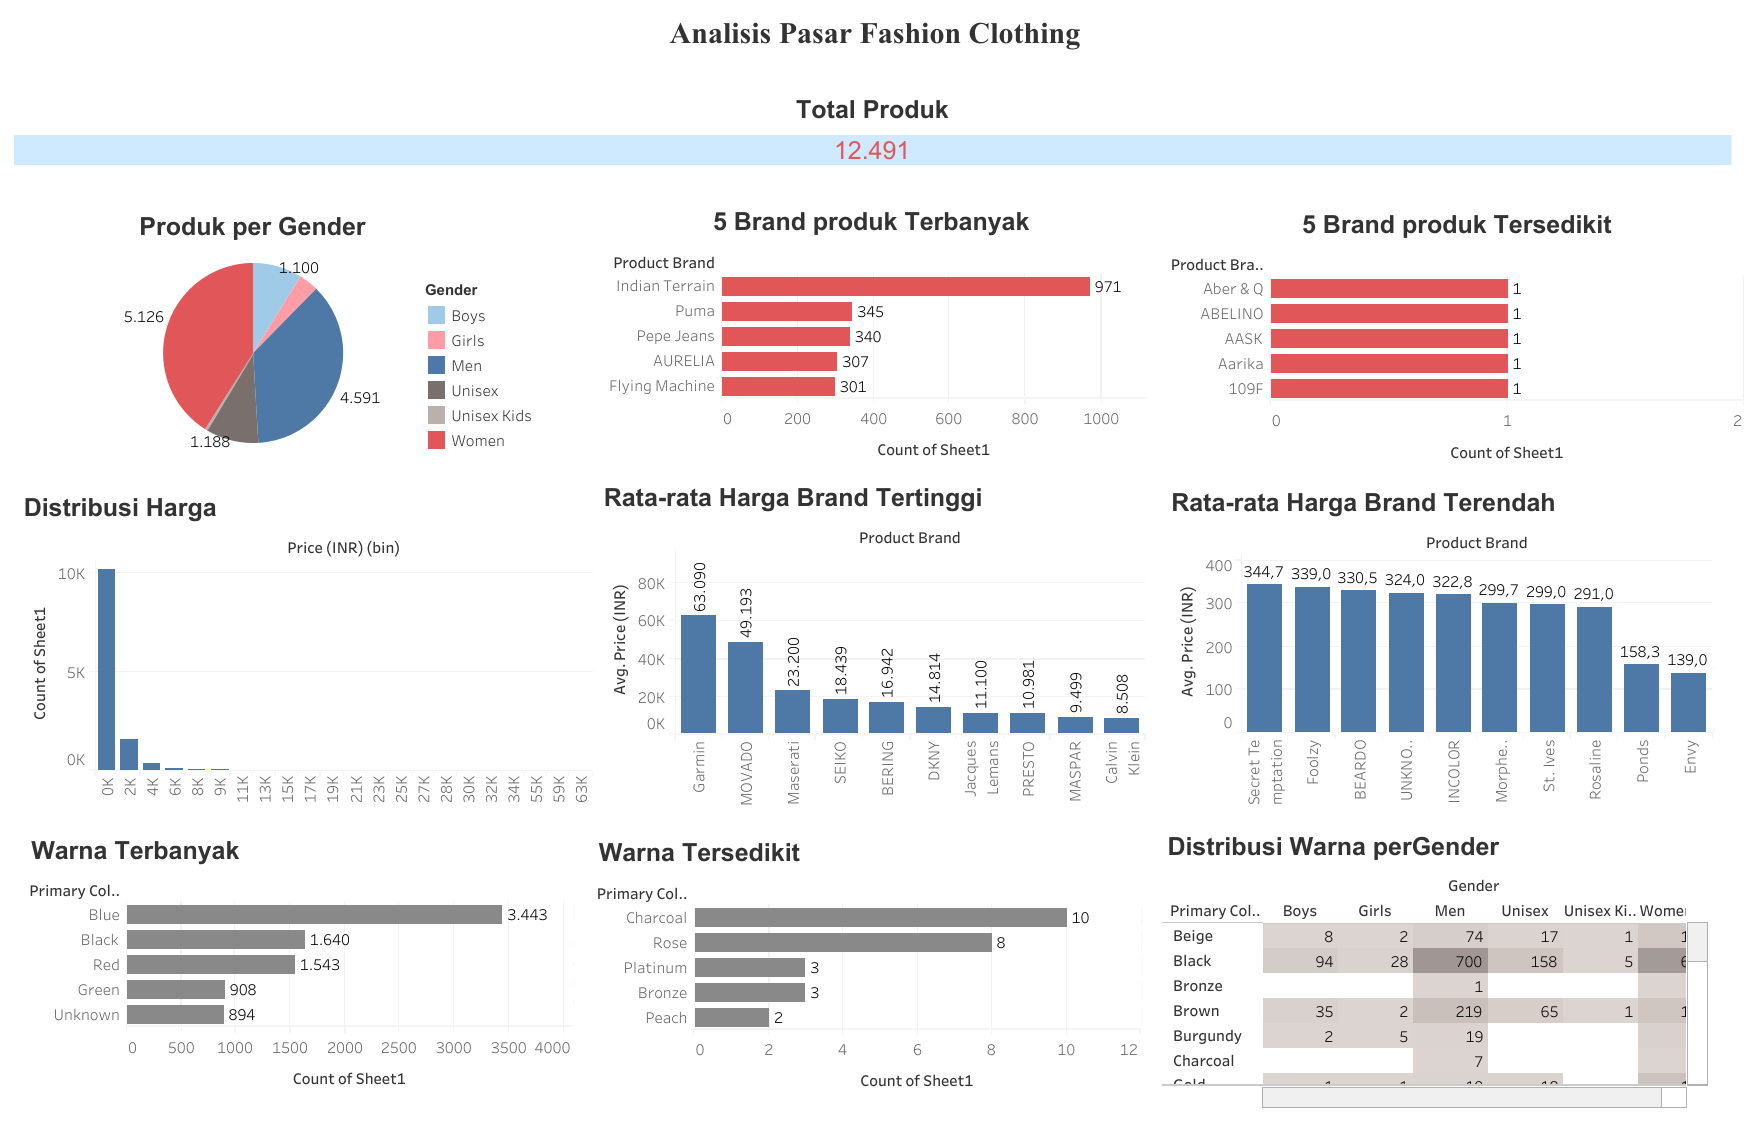

What the dashboard file says about the page in this screenshot:
{"tool":"tableau","page":{"name":"Dashboard Fashion Clothing","canvas":[1400,900],"ordinal":0},"visuals":[{"type":"title","box":[8,8,1384,36]},{"type":"worksheet","title":"Total Produk","mark":"Text","box":[11,69.1,1374,92.6]},{"type":"worksheet","title":"5 Brand produk Terbanyak","mark":"Automatic","rows":["ProductBrand"],"cols":["Sheet1_900F8318883E4724849CAA3F2C4A77AE"],"box":[477,159,440,230]},{"type":"worksheet","title":"5 Brand produk Tersedikit","mark":"Automatic","rows":["ProductBrand"],"cols":["Sheet1_900F8318883E4724849CAA3F2C4A77AE"],"box":[936,161,459,229]},{"type":"worksheet","title":"Produk per Gender","mark":"Pie","box":[16,163,373,229]},{"type":"legend","title":"Produk per Gender","param":"[federated.1ds9hfj17r6n5e15inpxm0dsne66].[none:Gender:nk]","box":[339,223,120,150]},{"type":"worksheet","title":"Rata-rata Harga Brand Tertinggi","mark":"Automatic","rows":["Price (INR)"],"cols":["ProductBrand"],"box":[479,380,437,267]},{"type":"worksheet","title":"Rata-rata Harga Brand Terendah","mark":"Automatic","rows":["Price (INR)"],"cols":["ProductBrand"],"box":[933,384,437,262]},{"type":"worksheet","title":"Distribusi Harga","mark":"Automatic","rows":["Sheet1_900F8318883E4724849CAA3F2C4A77AE"],"cols":["Price (INR) (bin)"],"box":[15,388,459,255]},{"type":"worksheet","title":"Distribusi Warna perGender","mark":"Automatic","rows":["PrimaryColor"],"cols":["Gender"],"box":[930,659,437,228]},{"type":"worksheet","title":"Warna Terbanyak","mark":"Automatic","rows":["PrimaryColor"],"cols":["Sheet1_900F8318883E4724849CAA3F2C4A77AE"],"box":[21,662,437,225]},{"type":"worksheet","title":"Warna Tersedikit","mark":"Automatic","rows":["PrimaryColor"],"cols":["Sheet1_900F8318883E4724849CAA3F2C4A77AE"],"box":[475,664,437,221]}]}

Visuals, with their boxes in screenshot pixels (x1, y1, x2, y2), scaled from the page's 1400x900 canvas onto the 1749x1124 screenshot:
title: (10, 10, 1739, 55)
"Total Produk" worksheet (Text marks): (14, 86, 1730, 202)
"5 Brand produk Terbanyak" worksheet: (596, 199, 1146, 486)
"5 Brand produk Tersedikit" worksheet: (1169, 201, 1743, 487)
"Produk per Gender" worksheet (Pie marks): (20, 204, 486, 490)
"Produk per Gender" legend: (424, 279, 573, 466)
"Rata-rata Harga Brand Tertinggi" worksheet: (598, 475, 1144, 808)
"Rata-rata Harga Brand Terendah" worksheet: (1166, 480, 1712, 807)
"Distribusi Harga" worksheet: (19, 485, 592, 803)
"Distribusi Warna perGender" worksheet: (1162, 823, 1708, 1108)
"Warna Terbanyak" worksheet: (26, 827, 572, 1108)
"Warna Tersedikit" worksheet: (593, 829, 1139, 1105)
